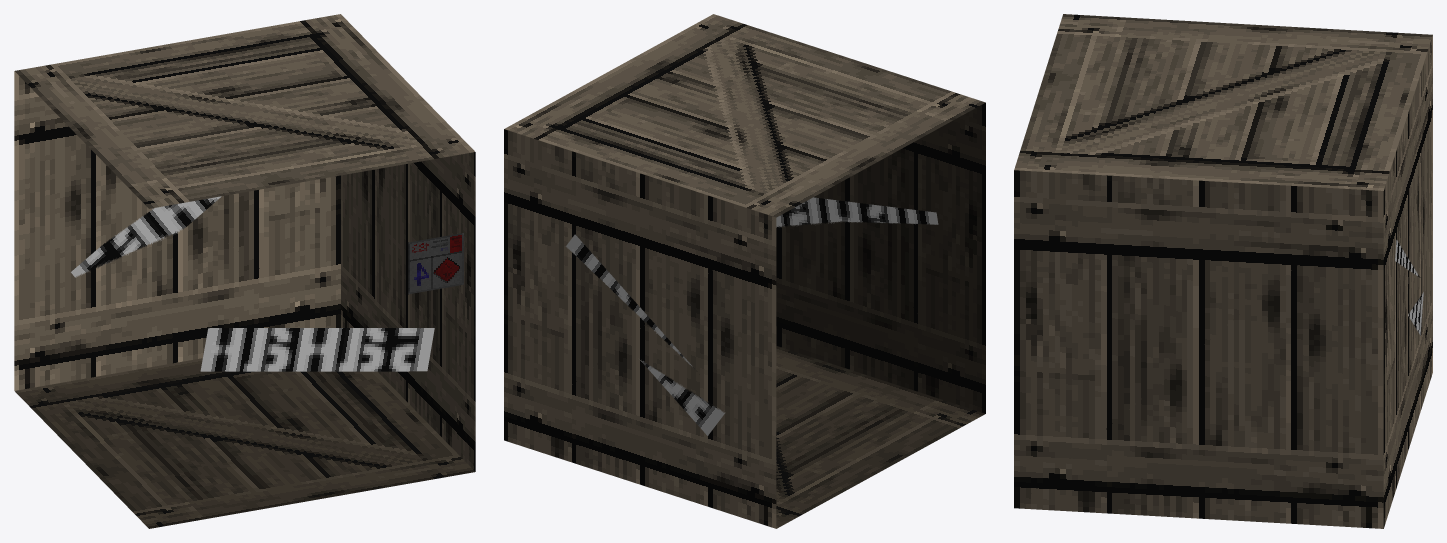
The model's file is primary_030.glb.
The picture shows the model from 3 angles, left to right: view 1: azimuth 30°, elevation 25°; view 2: azimuth 150°, elevation 25°; view 3: azimuth 270°, elevation 25°; orthographic projection. The views are drawn at different scales.
Visible parts, largest first — view 1: Object; view 2: Object; view 3: Object.
Part boxes in pixels (<box>): Object: <box>14,14,475,528</box>; Object: <box>504,14,985,528</box>; Object: <box>1014,14,1432,528</box>.
Size of the model in its own units: 1.07 by 0.9501 by 1.07.
7 materials, 7 textured.
